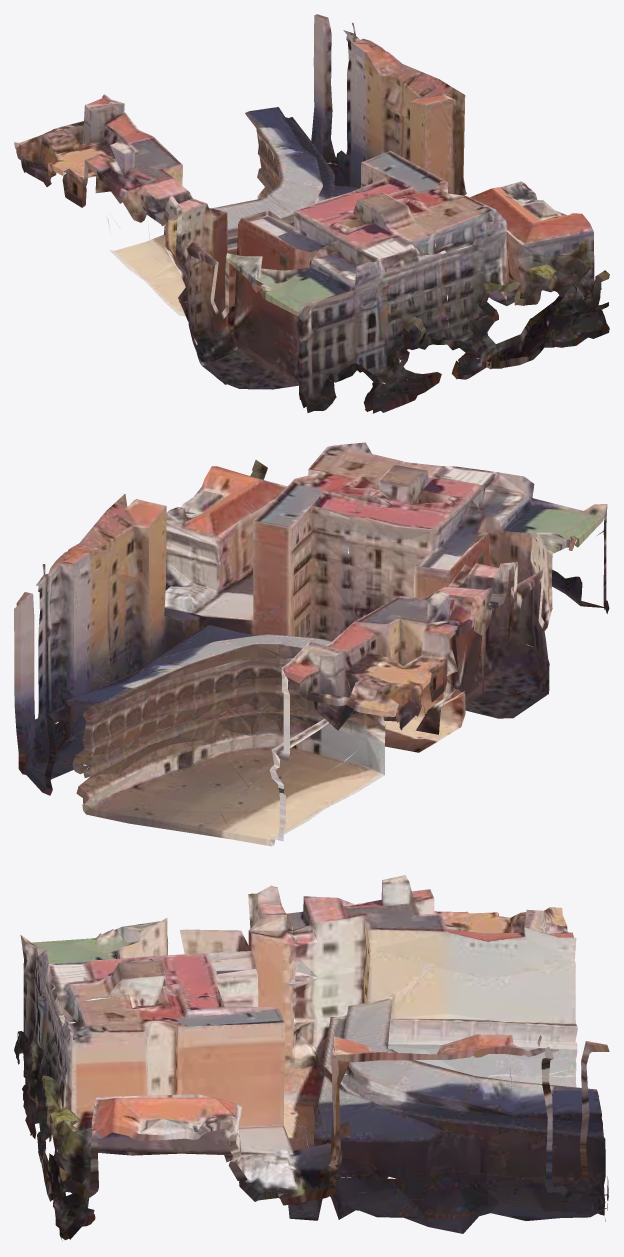
3 renders of one model, top to bottom at view 1: azimuth 30°, elevation 25°; view 2: azimuth 150°, elevation 25°; view 3: azimuth 270°, elevation 25°, orthographic. The views are drawn at different scales.
Parts seen in each view (by area): view 1: Mesh_0; view 2: Mesh_0; view 3: Mesh_0.
Part boxes in pixels (left/top/right/bottom): Mesh_0: left=14, top=14, right=609, bottom=413; Mesh_0: left=14, top=442, right=609, bottom=846; Mesh_0: left=14, top=875, right=609, bottom=1240.
Size of the model in its own units: 66.61 by 33.23 by 82.61.
1 material, 1 textured.
